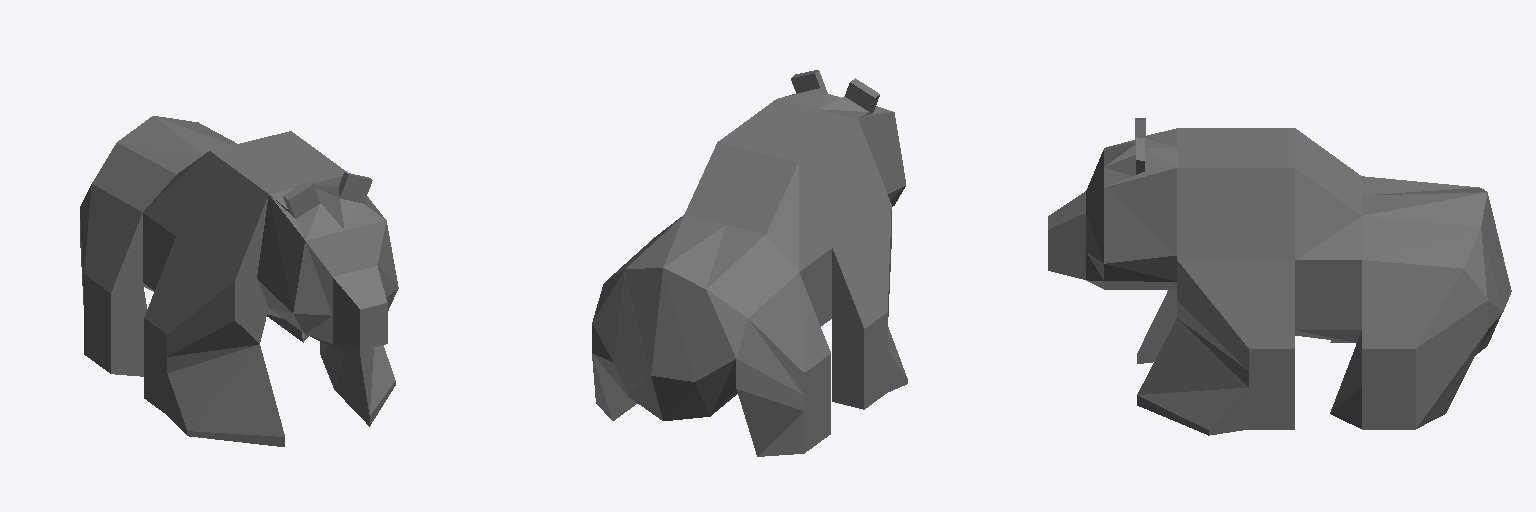
The model's file is Bear_PlaceHolder.obj.
3 renders of one model, left to right at view 1: azimuth 30°, elevation 25°; view 2: azimuth 150°, elevation 25°; view 3: azimuth 270°, elevation 25°, orthographic.
Parts seen in each view (by area): view 1: pCube1; view 2: pCube1; view 3: pCube1.
Part boxes in pixels (x1,y1,x2,y2): pCube1: (80,116,398,446); pCube1: (592,70,907,456); pCube1: (1048,118,1511,435).
Bounding box in the file's own units: 7.7 × 9.1 × 14.83.